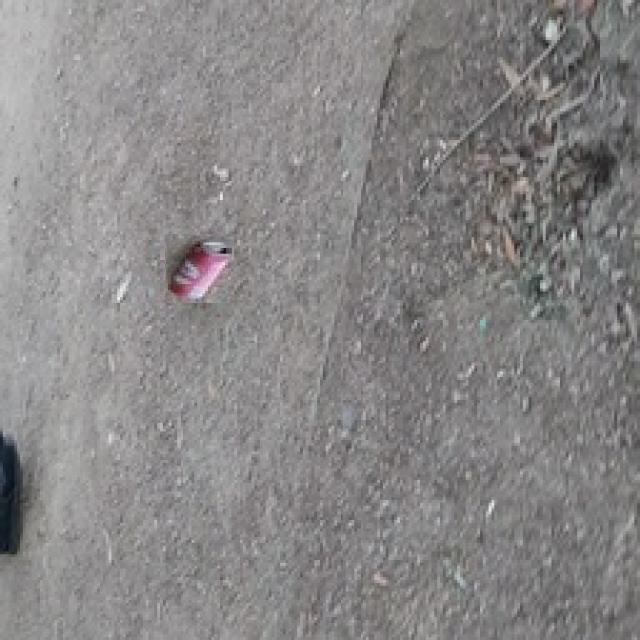recyclable: (166, 235, 233, 303)
